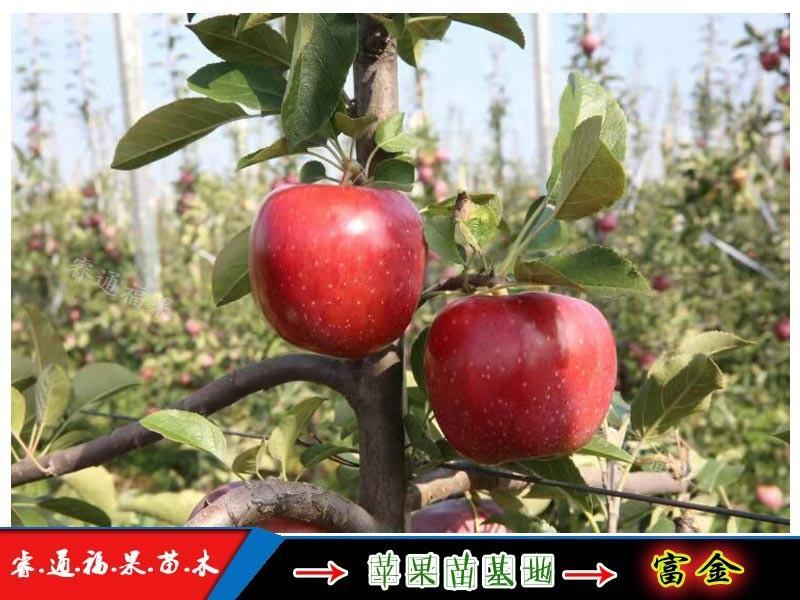apple: (416, 291, 616, 470), (248, 185, 425, 359)
